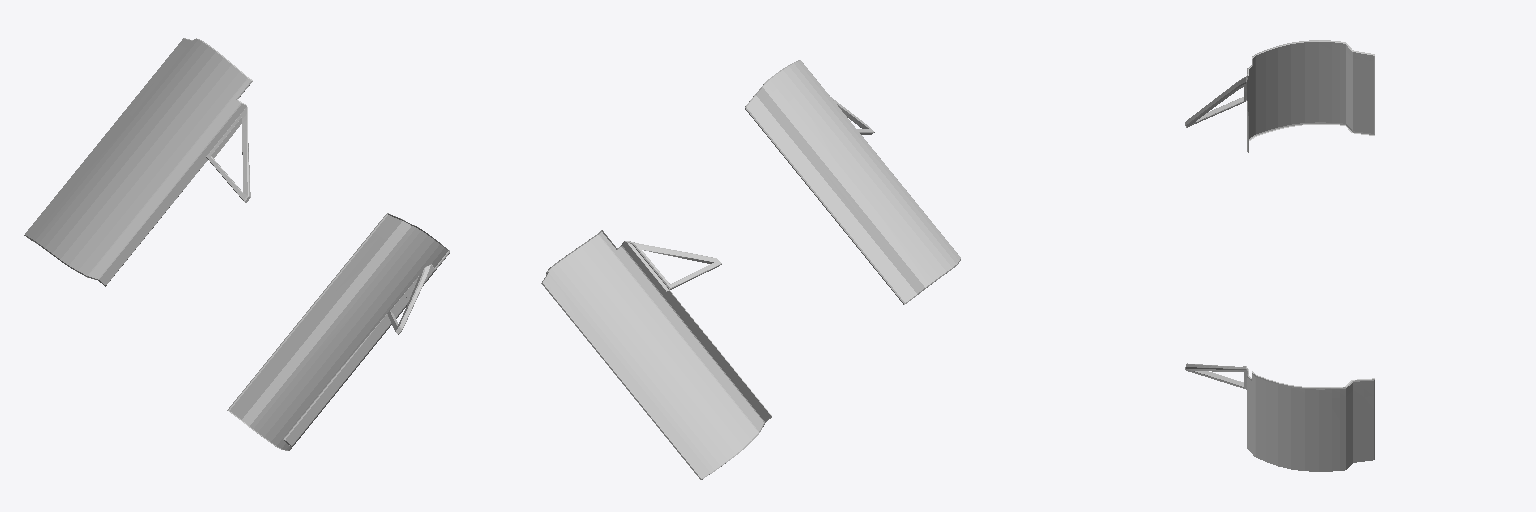
The model's file is Door.obj.
3 views of the same model, side by side, from view 1: azimuth 30°, elevation 25°; view 2: azimuth 150°, elevation 25°; view 3: azimuth 270°, elevation 25° (orthographic).
Visible parts, largest first — view 1: Door; view 2: Door; view 3: Door.
Boxes of the visible parts, x1=… form: Door: x1=24, y1=38, x2=449, y2=450; Door: x1=541, y1=60, x2=960, y2=479; Door: x1=1185, y1=40, x2=1374, y2=471.
Bounding box in the file's own units: 2.14 × 2.16 × 0.9183.